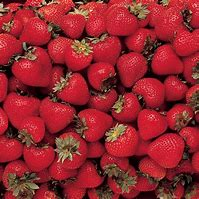Fresa: (12, 45, 53, 88), (40, 96, 77, 134), (147, 133, 186, 168), (54, 71, 92, 106), (4, 92, 40, 128), (56, 133, 90, 169), (76, 108, 113, 141), (104, 124, 139, 157), (149, 44, 186, 75), (2, 161, 35, 194), (132, 78, 166, 110), (106, 6, 139, 38), (118, 53, 150, 86), (23, 142, 56, 172), (88, 35, 123, 63), (113, 92, 144, 123), (137, 109, 168, 140), (87, 62, 117, 92), (22, 17, 52, 46), (126, 27, 157, 55), (75, 159, 104, 188), (1, 32, 25, 65), (59, 12, 87, 40), (167, 102, 194, 131), (138, 156, 169, 181), (19, 117, 46, 145), (84, 10, 110, 39), (67, 41, 92, 71), (1, 133, 23, 164), (163, 76, 188, 103), (101, 152, 129, 176), (107, 170, 134, 193)
